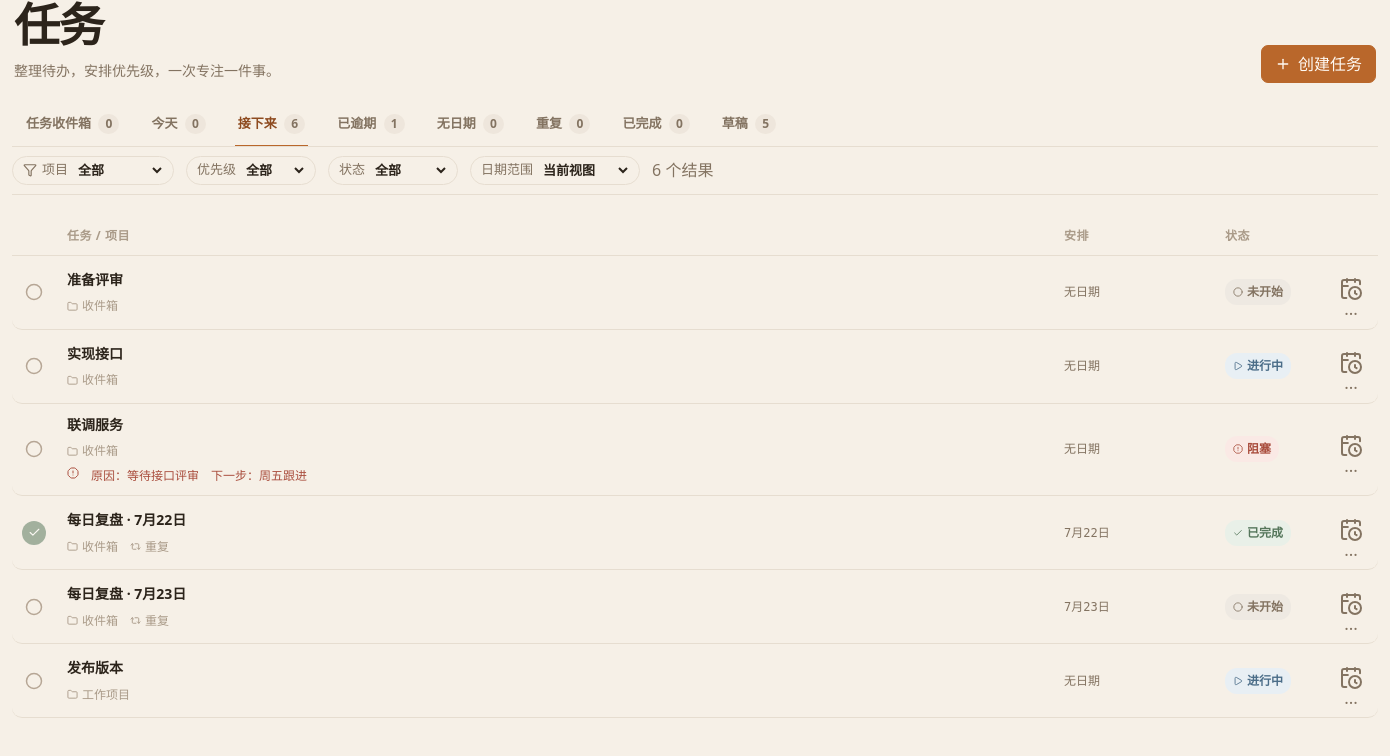
it: Task occurrence workspace › preserves the local date and offers refresh/compare when reschedule conflicts
This screenshot has width=1390, height=756.
Click the button named "改期准备评审": (1351, 292) left=1336, top=277, right=1366, bottom=307
(page scrolled)
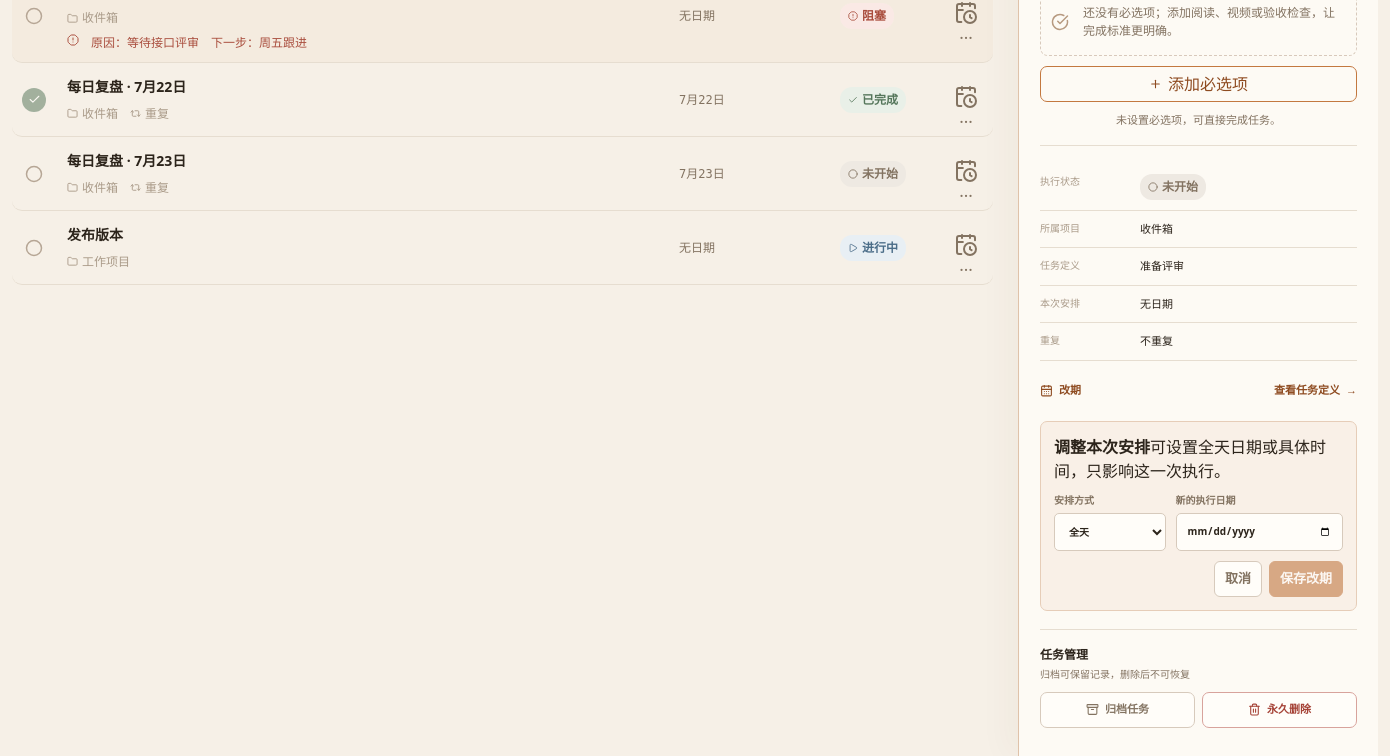
In the date field labelled "新的执行日期": (1259, 532) left=1176, top=513, right=1343, bottom=551, type "2026-07-25"
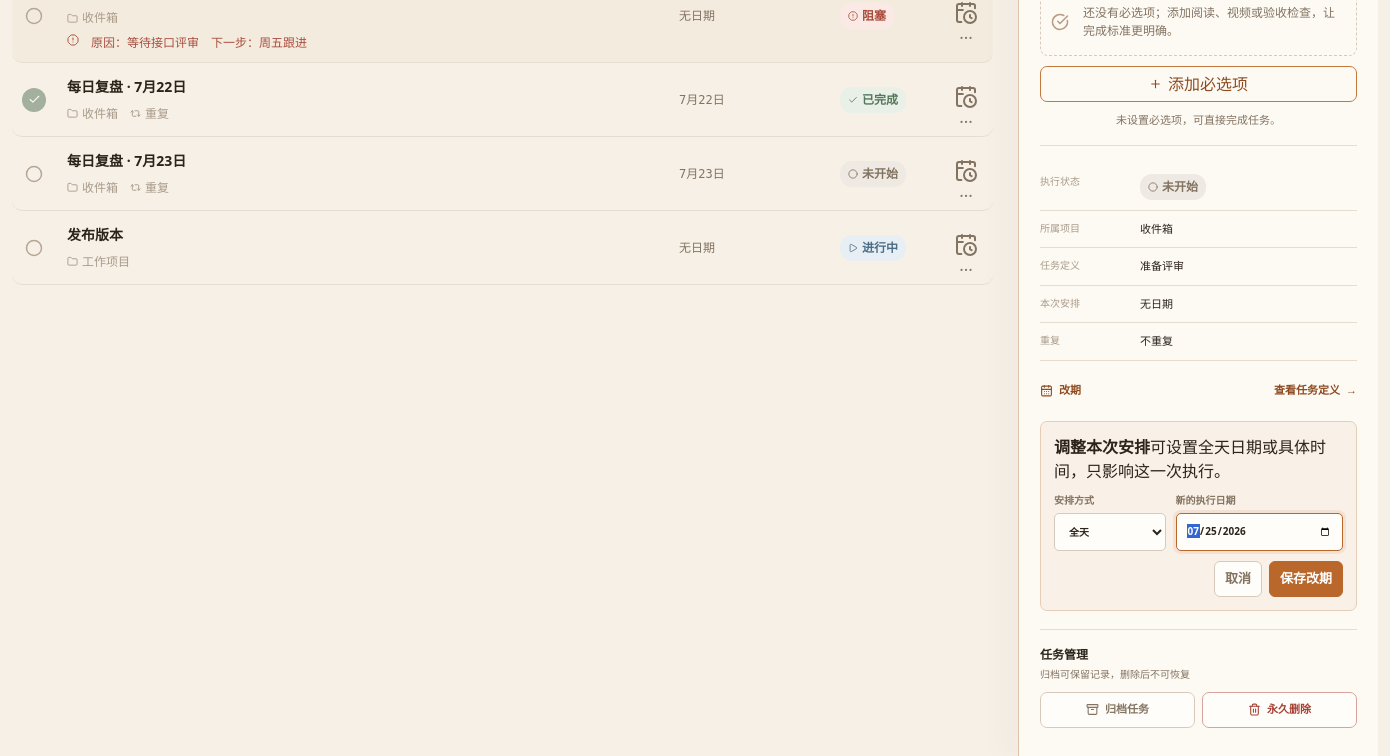
Click the button "保存改期": (1306, 579) left=1269, top=561, right=1343, bottom=597
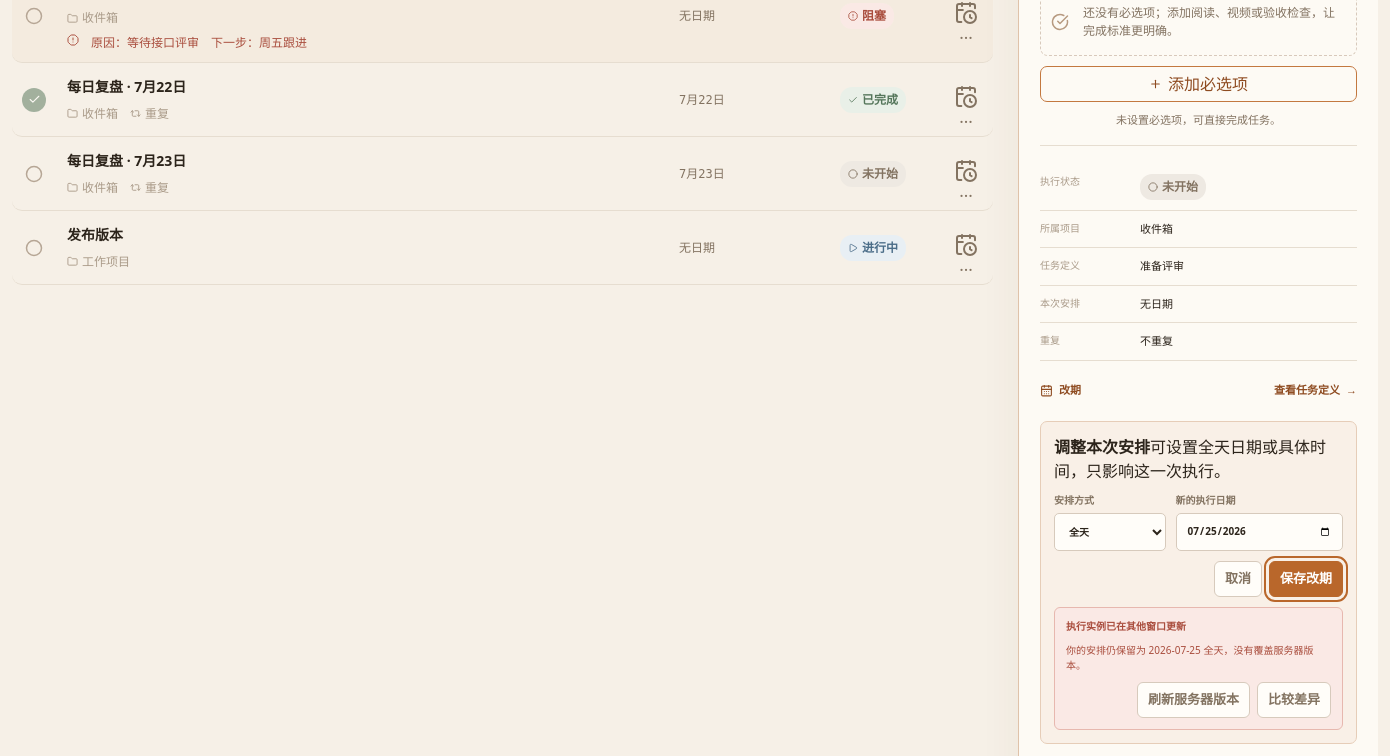
Result: the message shows "执行实例已在其他窗口更新" at left=1066, top=619, right=1186, bottom=633
Result: the button "刷新服务器版本" is shown at left=1137, top=682, right=1250, bottom=718
Result: the button "比较差异" is shown at left=1257, top=682, right=1331, bottom=718
